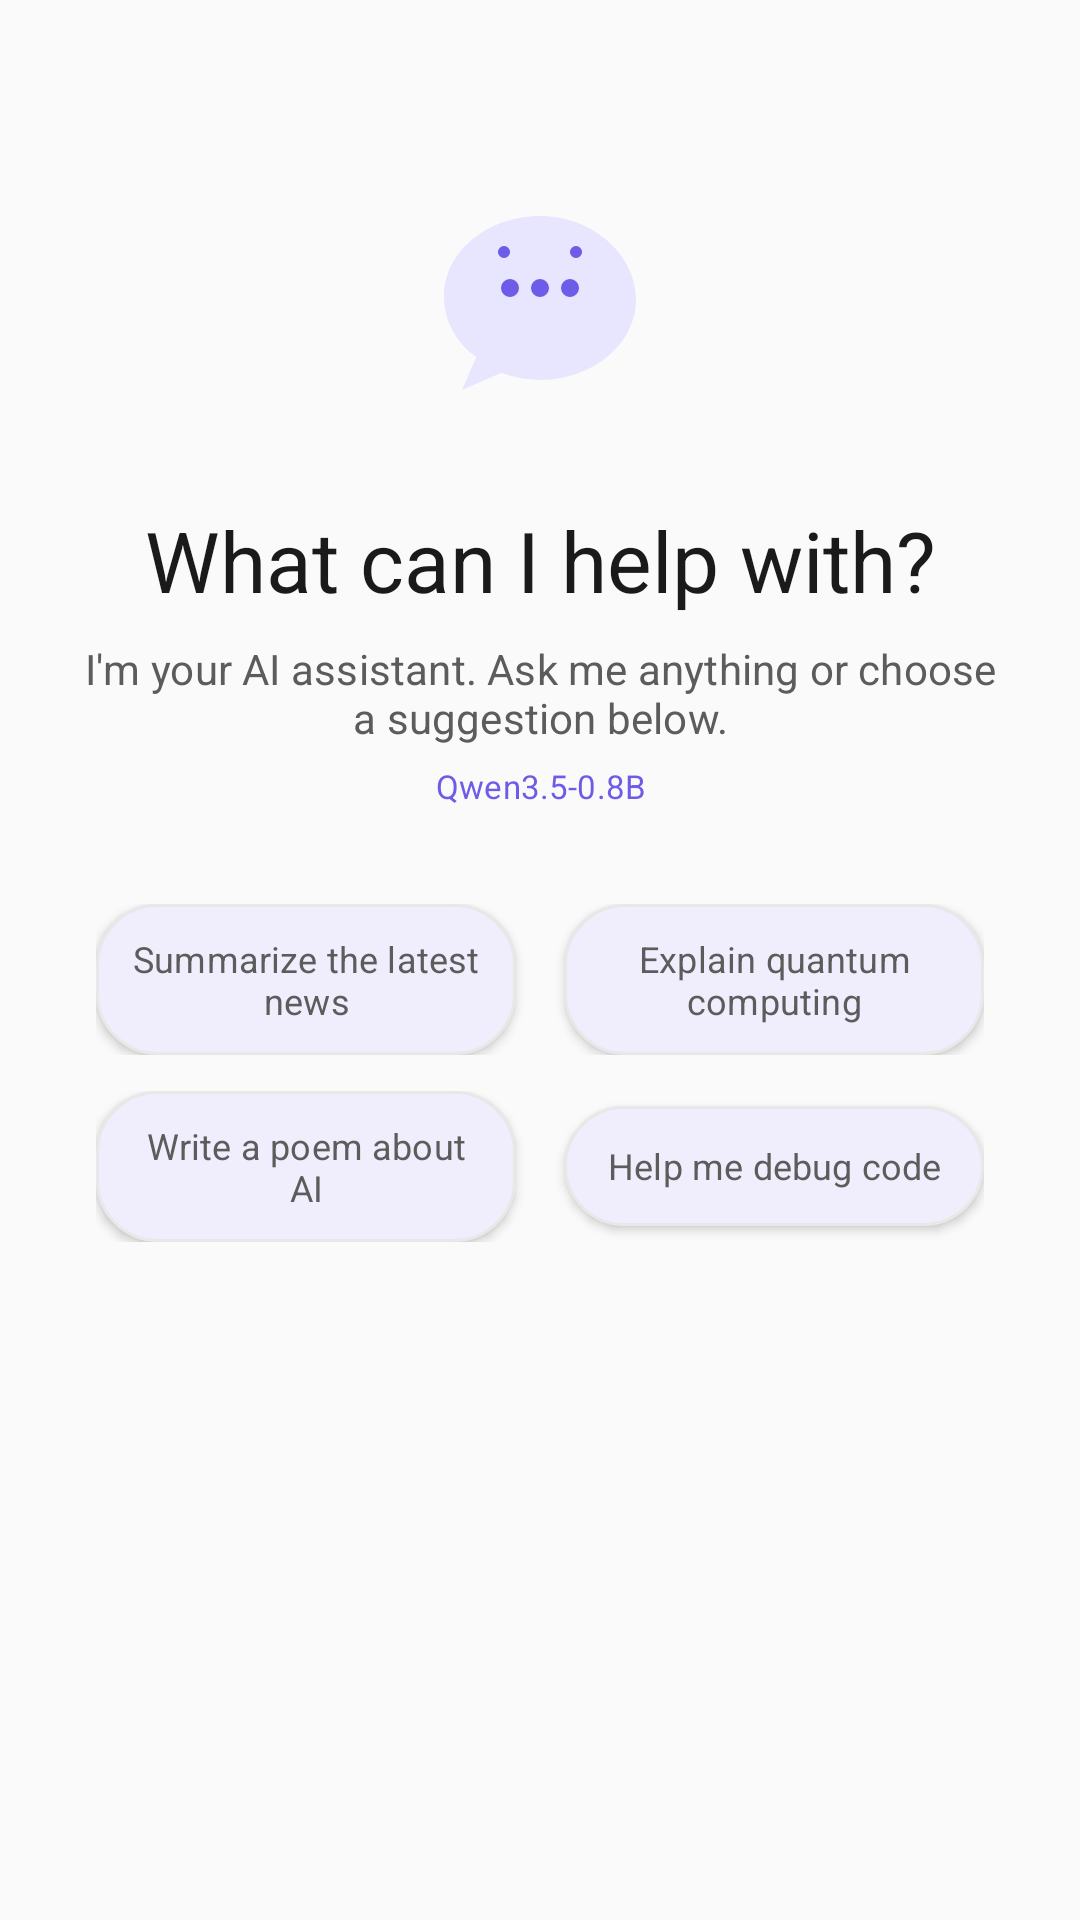

Named icons in this screenshot (1080×1920) and their centers, [x,y]:
welcome illustration: [540,303]
